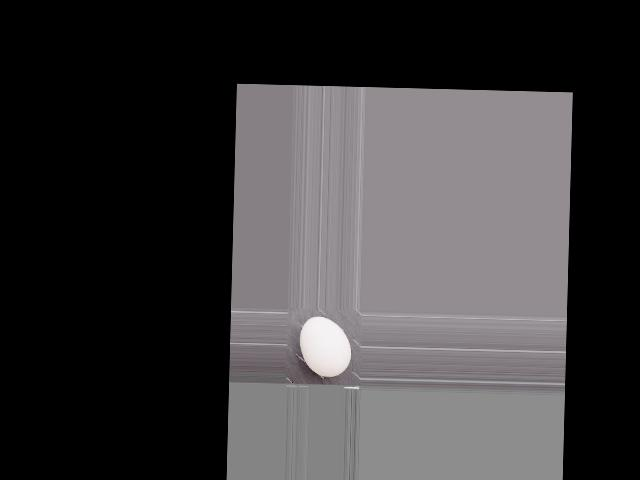egg: (298, 316, 351, 377)
